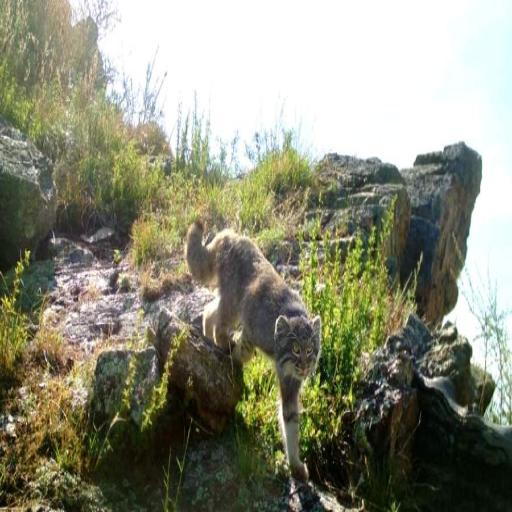manul: (184, 220, 321, 480)
